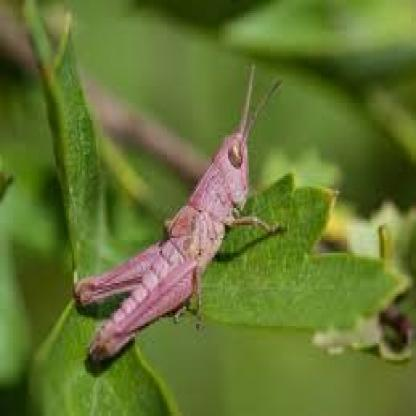grasshopper: (72, 56, 286, 367)
